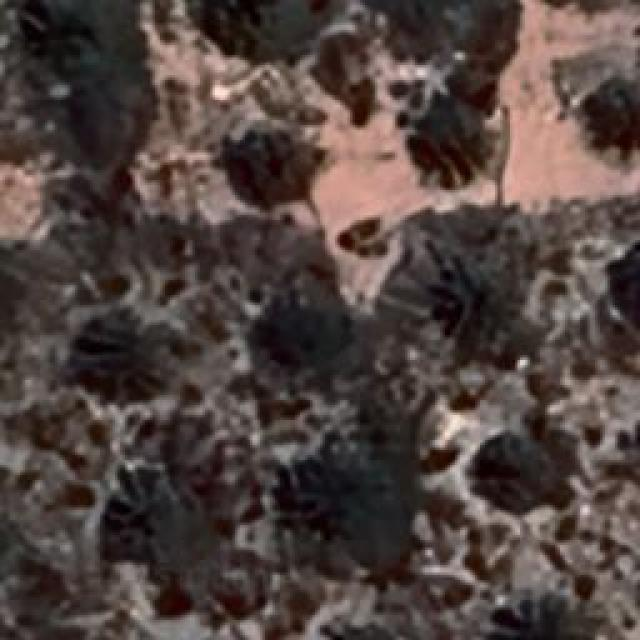PalmTree: (230, 0, 358, 80), (430, 254, 532, 348), (264, 282, 348, 368), (378, 0, 498, 56), (79, 314, 149, 406), (276, 452, 354, 528), (420, 96, 488, 182), (470, 436, 558, 502), (494, 575, 582, 640), (230, 128, 312, 192), (108, 482, 182, 550), (25, 6, 80, 64), (317, 612, 427, 640), (592, 80, 640, 142)
